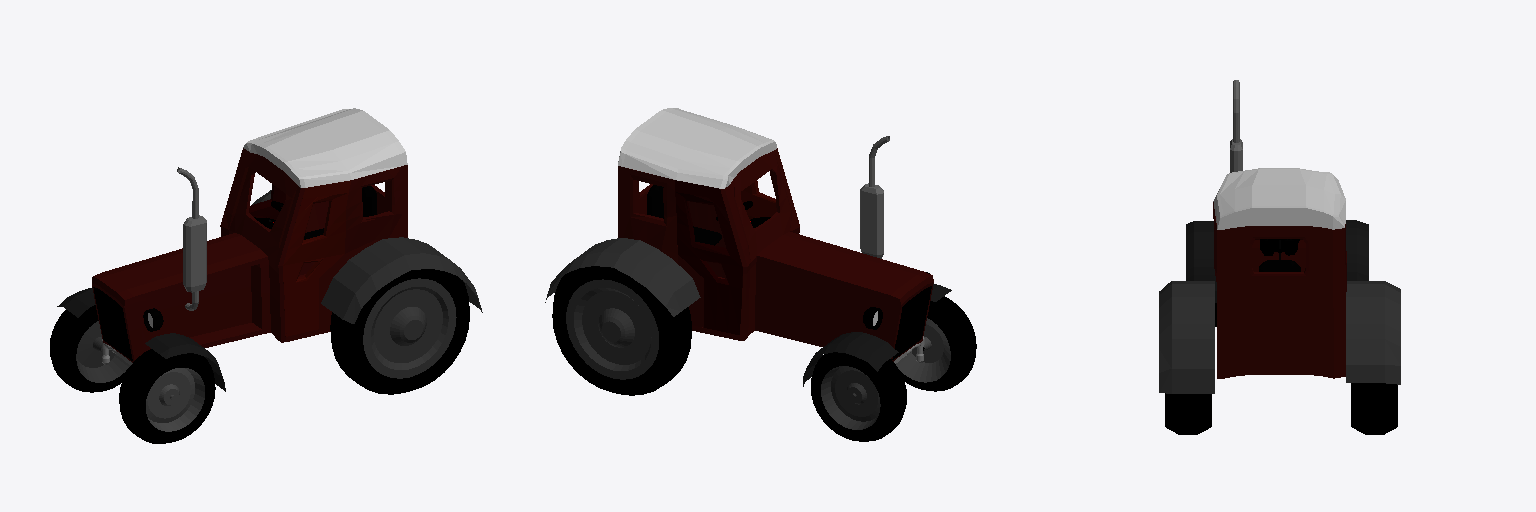
The model's file is Tractor2.obj.
3 views of the same model, side by side, from view 1: azimuth 30°, elevation 25°; view 2: azimuth 150°, elevation 25°; view 3: azimuth 270°, elevation 25° (orthographic).
Visible parts, largest first — view 1: CylinderFBXASC046016; view 2: CylinderFBXASC046016; view 3: CylinderFBXASC046016.
Part boxes in pixels (left/top/right/bottom): CylinderFBXASC046016: left=50, top=108, right=482, bottom=443; CylinderFBXASC046016: left=545, top=108, right=976, bottom=441; CylinderFBXASC046016: left=1159, top=80, right=1400, bottom=434.
Bounding box in the file's own units: 26.7 × 19.3 × 16.42.